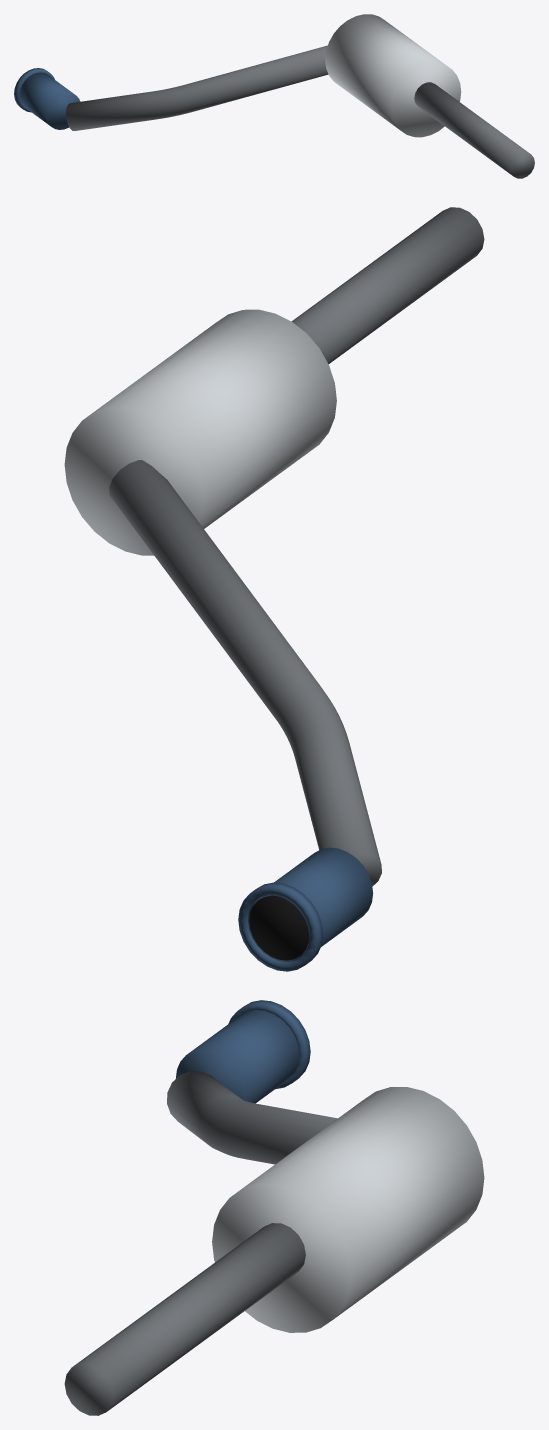
File: exhaust_hks_legal_ti.glb
The picture shows the model from 3 angles, top to bottom: view 1: azimuth 30°, elevation 25°; view 2: azimuth 150°, elevation 25°; view 3: azimuth 330°, elevation 25°; orthographic projection. The views are drawn at different scales.
Parts seen in each view (by area): view 1: drum.005, tail0.007, inlet.007, tip0.007, tip0Roll.004; view 2: drum.005, tail0.007, inlet.007, tip0.007, tip0Mouth.007, tip0Roll.004; view 3: drum.005, inlet.007, tail0.007, tip0.007, tip0Roll.004.
Part boxes in pixels (<box>): drum.005: <box>325,14,461,137</box>; tail0.007: <box>66,45,328,130</box>; inlet.007: <box>414,82,534,178</box>; tip0.007: <box>19,73,80,129</box>; tip0Roll.004: <box>14,68,54,112</box>; drum.005: <box>64,309,336,555</box>; tail0.007: <box>109,460,381,886</box>; inlet.007: <box>291,207,484,363</box>; tip0.007: <box>248,847,373,961</box>; tip0Mouth.007: <box>249,895,309,960</box>; tip0Roll.004: <box>238,882,323,971</box>; drum.005: <box>212,1087,484,1332</box>; inlet.007: <box>64,1223,305,1415</box>; tail0.007: <box>167,1071,337,1164</box>; tip0.007: <box>176,1010,299,1103</box>; tip0Roll.004: <box>228,1000,310,1089</box>.
Bounding box in the file's own units: 0.5475 × 0.287 × 1.09.
